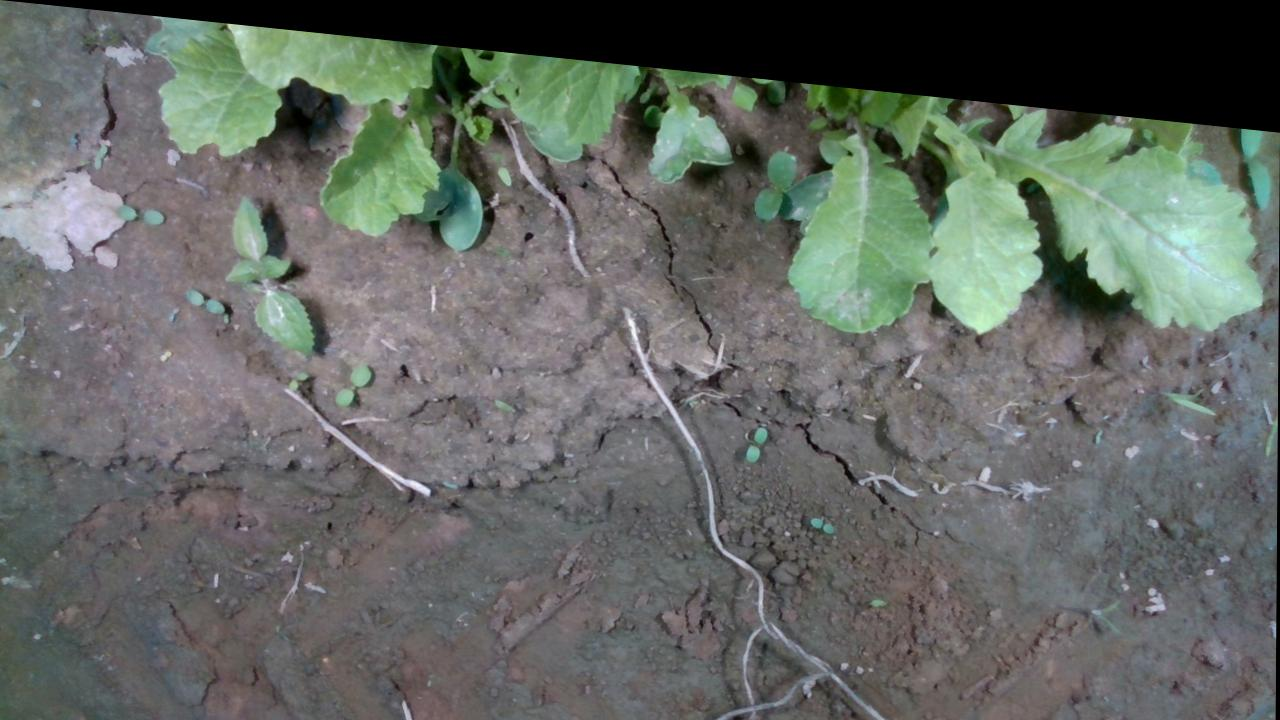weed: (333, 352, 373, 402), (112, 199, 166, 224), (744, 406, 769, 448), (183, 283, 224, 308), (807, 495, 838, 518), (90, 139, 108, 169), (287, 362, 309, 386), (167, 298, 181, 319), (158, 343, 172, 359)
